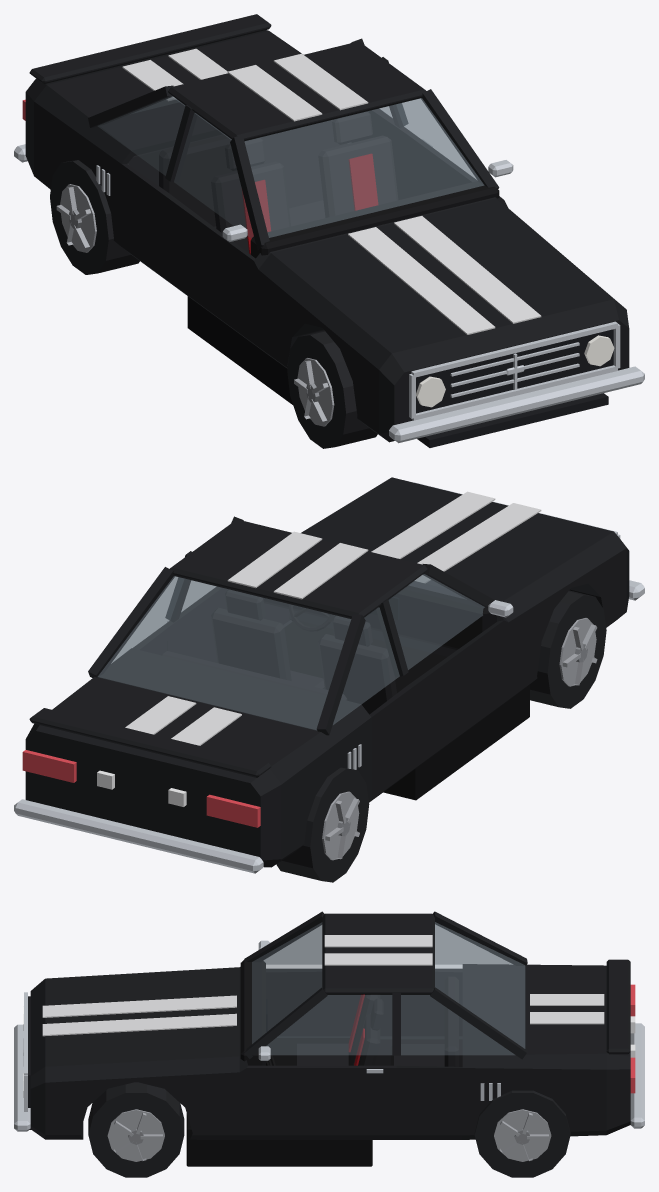
File: cbum.glb
3 renders of one model, top to bottom at view 1: azimuth 30°, elevation 25°; view 2: azimuth 150°, elevation 25°; view 3: azimuth 270°, elevation 25°, orthographic. The views are drawn at different scales.
Parts seen in each view (by area): view 1: Body__Shell, Details, Cabin__Glass, Cabin__Bench__1E1E21, Wheel_FR, Wheel_RR, Cabin__Dash__141416, Driver_Seat__Seat__1E1E21, Cabin__Seat__1E1E21, Cabin__Underbody__0E0E0F, Door_Driver__Shell, Door_Driver__Glass (+3 smaller); view 2: Body__Shell, Details, Cabin__Glass, Cabin__Underbody__0E0E0F, Wheel_FR, Wheel_RR, Driver_Seat__Seat__1E1E21, Cabin__Dash__141416, Cabin__Seat__1E1E21, Lamps, Door_Driver__Shell, Cabin__Bench__1E1E21; view 3: Body__Shell, Details, Cabin__Glass, Door_Driver__Shell, Wheel_FL, Wheel_RL, Cabin__Underbody__0E0E0F, Door_Driver__Glass, Cabin__Dash__141416, Cabin__Bench__1E1E21, Cabin__Seat__1E1E21, Driver_Seat__Seat__1E1E21 (+2 smaller).
Boxes of the visible parts, left/top/right/bottom form: Body__Shell: left=25, top=30, right=629, bottom=442; Details: left=14, top=14, right=644, bottom=447; Cabin__Glass: left=98, top=96, right=484, bottom=238; Cabin__Bench__1E1E21: left=159, top=120, right=346, bottom=228; Wheel_FR: left=287, top=330, right=377, bottom=448; Wheel_RR: left=50, top=160, right=139, bottom=274; Cabin__Dash__141416: left=250, top=181, right=499, bottom=258; Driver_Seat__Seat__1E1E21: left=318, top=111, right=398, bottom=217; Cabin__Seat__1E1E21: left=211, top=137, right=290, bottom=252; Cabin__Underbody__0E0E0F: left=187, top=296, right=292, bottom=404; Door_Driver__Shell: left=406, top=132, right=477, bottom=197; Door_Driver__Glass: left=396, top=99, right=476, bottom=179; Body__Shell: left=25, top=477, right=629, bottom=867; Details: left=14, top=482, right=644, bottom=873; Cabin__Glass: left=98, top=574, right=484, bottom=730; Cabin__Underbody__0E0E0F: left=284, top=620, right=529, bottom=800; Wheel_FR: left=530, top=590, right=606, bottom=708; Wheel_RR: left=276, top=767, right=369, bottom=882; Driver_Seat__Seat__1E1E21: left=211, top=589, right=324, bottom=689; Cabin__Dash__141416: left=263, top=581, right=497, bottom=649; Cabin__Seat__1E1E21: left=318, top=615, right=396, bottom=714; Lamps: left=22, top=750, right=260, bottom=827; Door_Driver__Shell: left=162, top=586, right=228, bottom=662; Cabin__Bench__1E1E21: left=161, top=651, right=347, bottom=700; Body__Shell: left=30, top=964, right=630, bottom=1139; Details: left=14, top=911, right=644, bottom=1131; Cabin__Glass: left=252, top=922, right=525, bottom=1055; Door_Driver__Shell: left=246, top=1065, right=396, bottom=1135; Wheel_FL: left=88, top=1082, right=184, bottom=1177; Wheel_RL: left=474, top=1090, right=570, bottom=1177; Cabin__Underbody__0E0E0F: left=186, top=1038, right=372, bottom=1166; Door_Driver__Glass: left=266, top=995, right=392, bottom=1055; Cabin__Dash__141416: left=240, top=959, right=265, bottom=1065; Cabin__Bench__1E1E21: left=390, top=976, right=458, bottom=1066; Cabin__Seat__1E1E21: left=293, top=994, right=380, bottom=1065; Driver_Seat__Seat__1E1E21: left=358, top=998, right=383, bottom=1065.
Size of the model in its own units: 2.24 by 1.62 by 5.26.
Materials: 9 (4 with a texture image).
